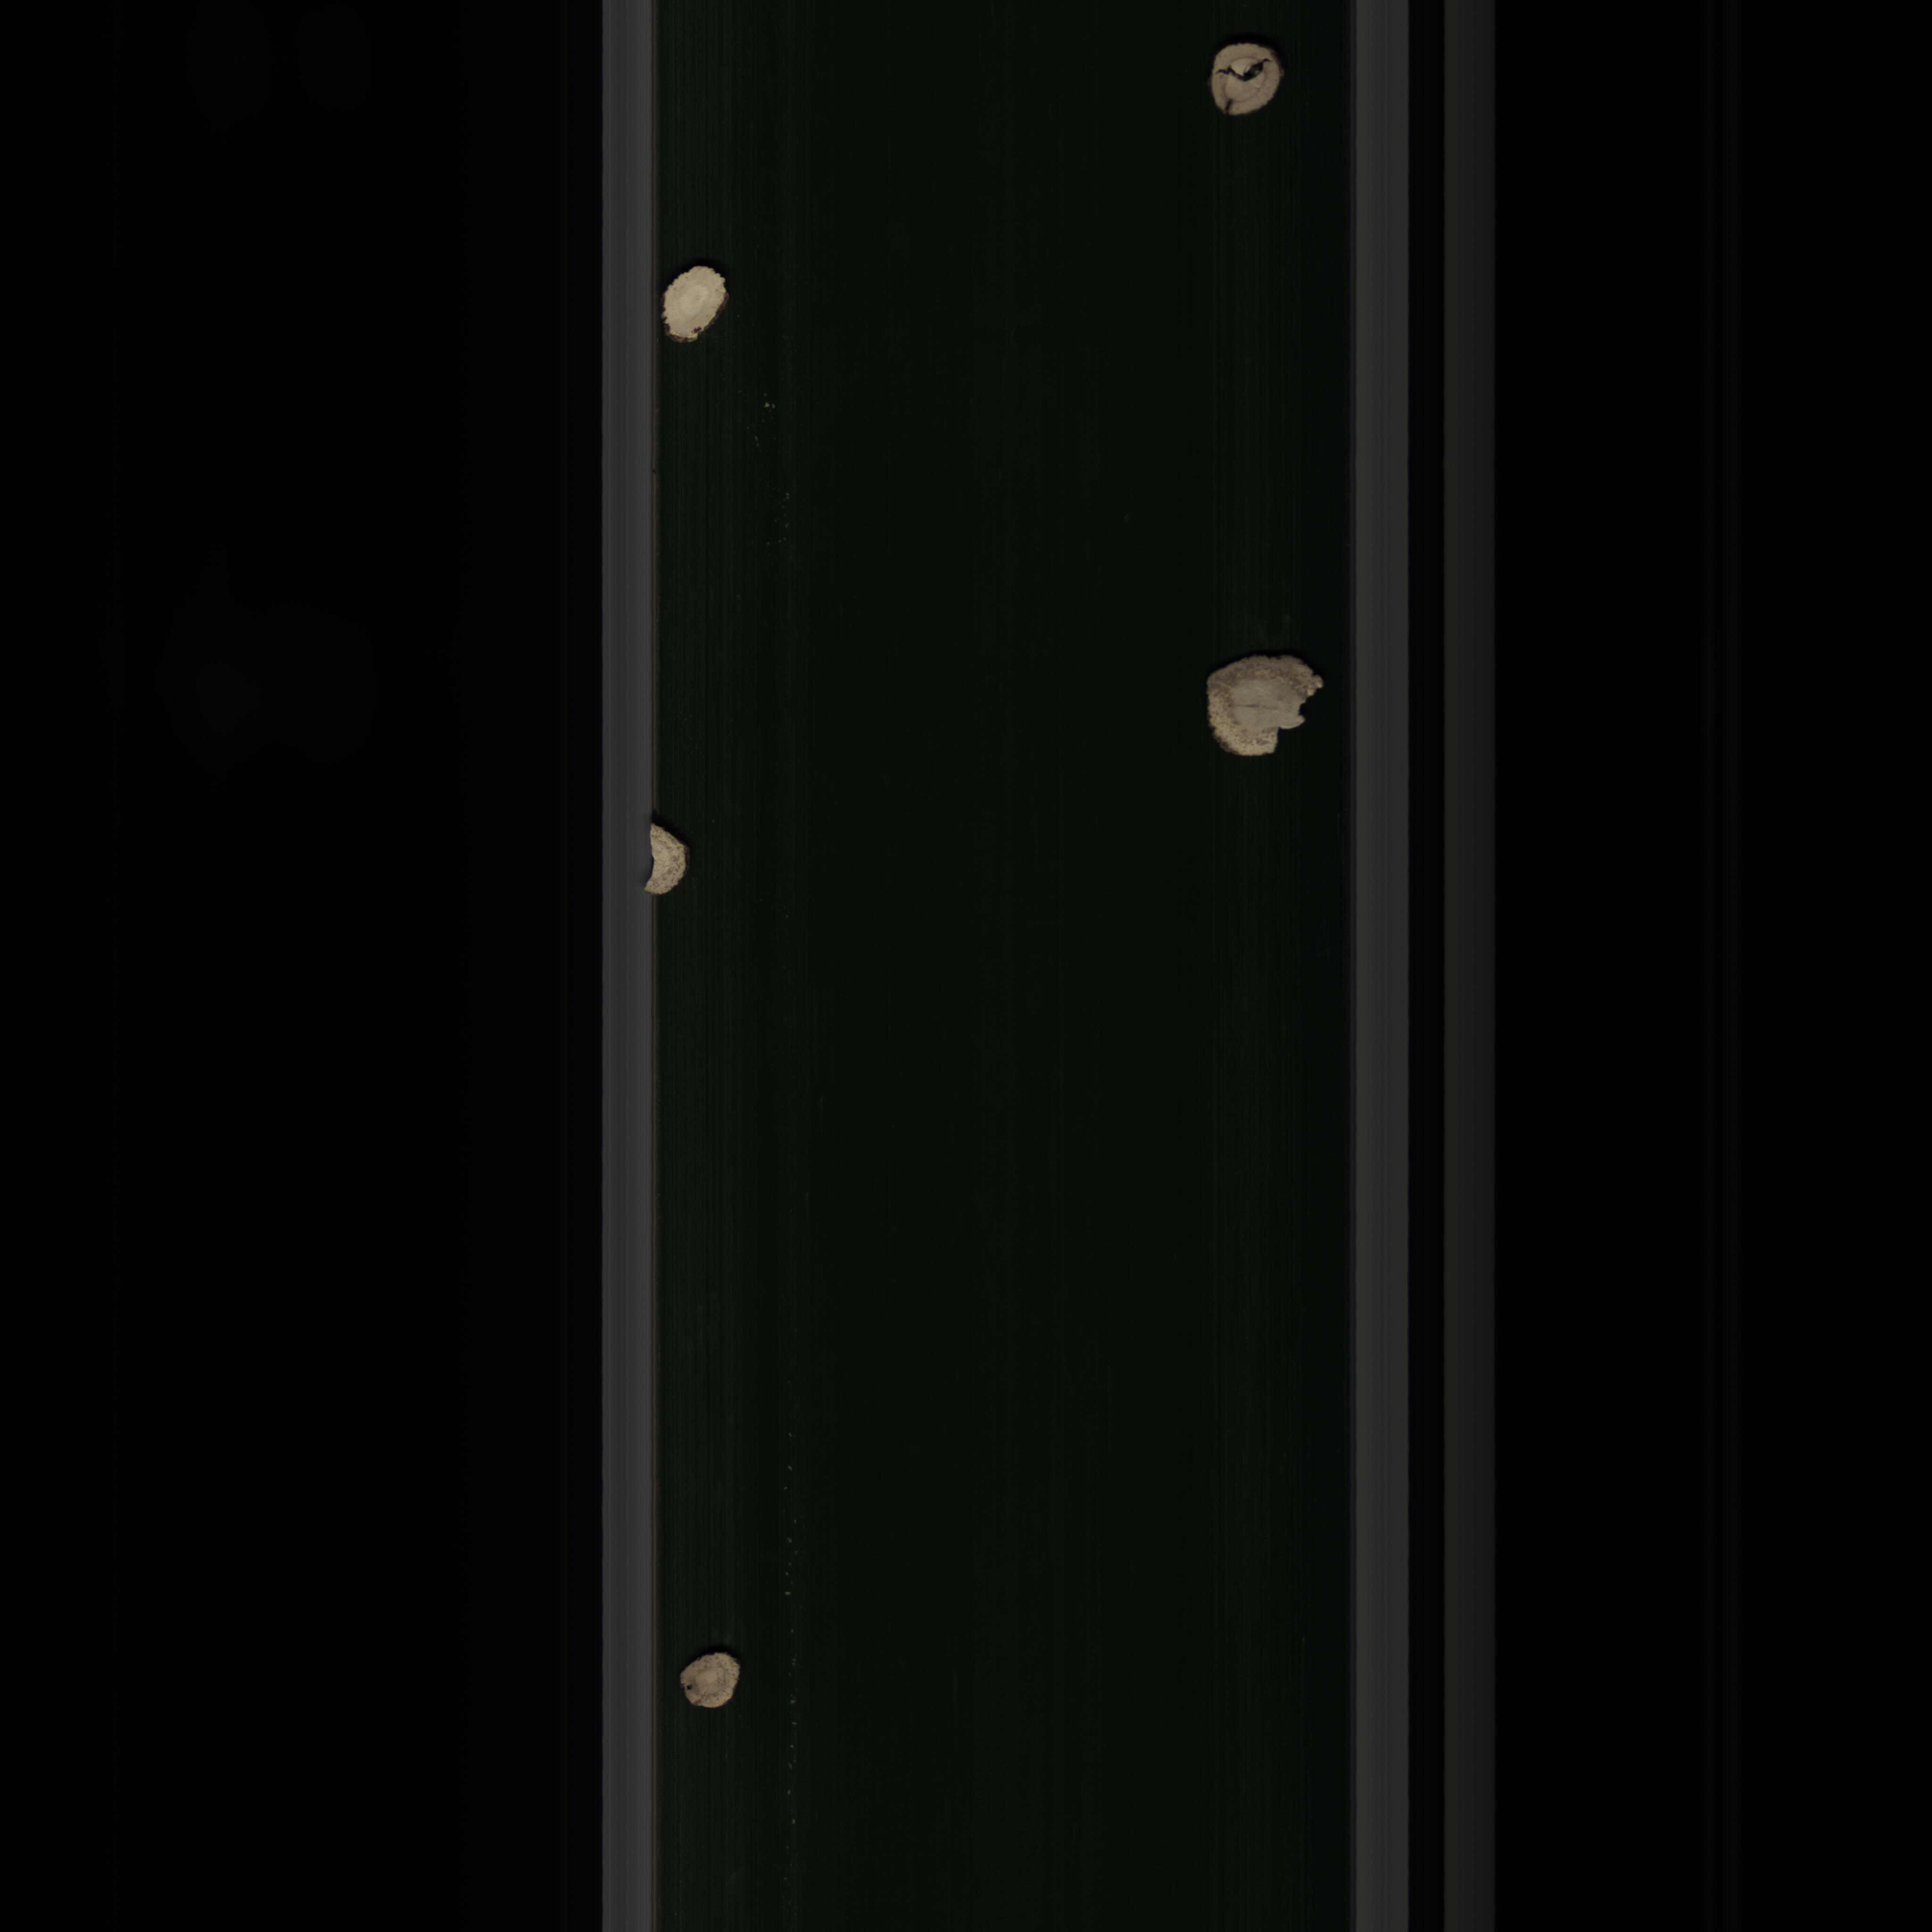debris: (1201, 649, 1327, 763), (635, 819, 694, 901)
distortion: (658, 258, 734, 347)
hole: (1203, 37, 1284, 131), (672, 1640, 752, 1718)
